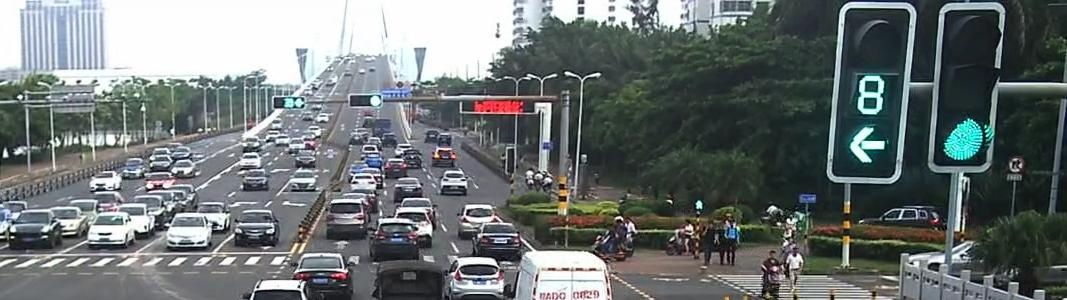green: (937, 115, 985, 162), (367, 94, 379, 108)
greenleft: (842, 123, 895, 166), (294, 92, 304, 109)
greenpeople: (691, 197, 706, 211)
greentime: (851, 76, 889, 117), (284, 93, 294, 112)
